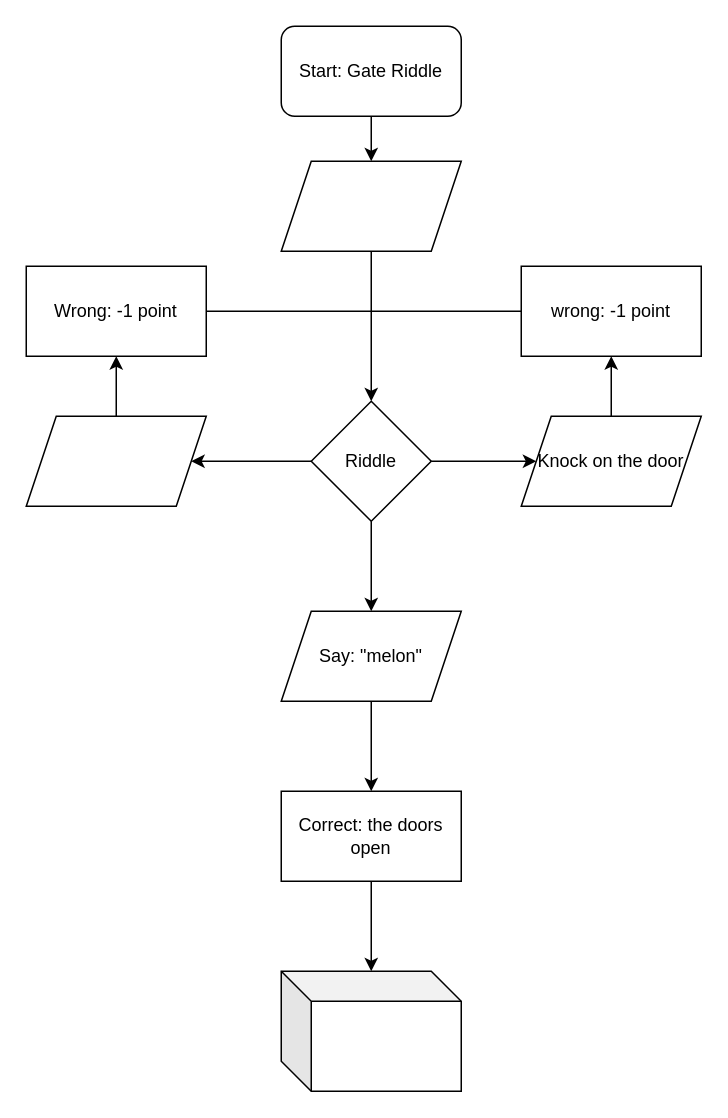
This 728x1118 diagram has some shape labels left out. The shapes that lost their labels are listed below. From the top down, each one's box as (x1, y1, x2, y2) in pixels, then its label:
(280, 160, 461, 251): O: arrival
(25, 415, 206, 506): Say: "edro"
(280, 970, 461, 1091): Watcher in the water
